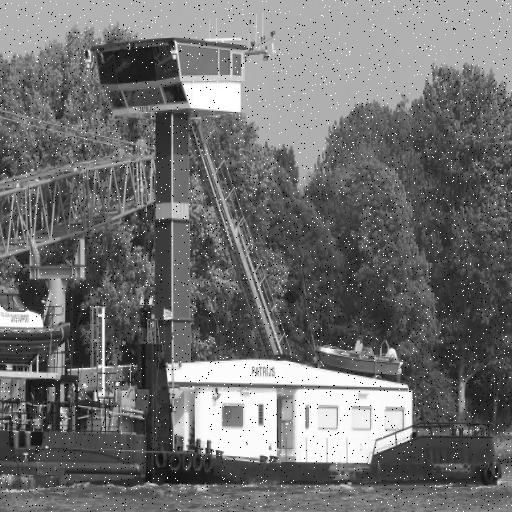tugboat: (22, 22, 507, 499)
